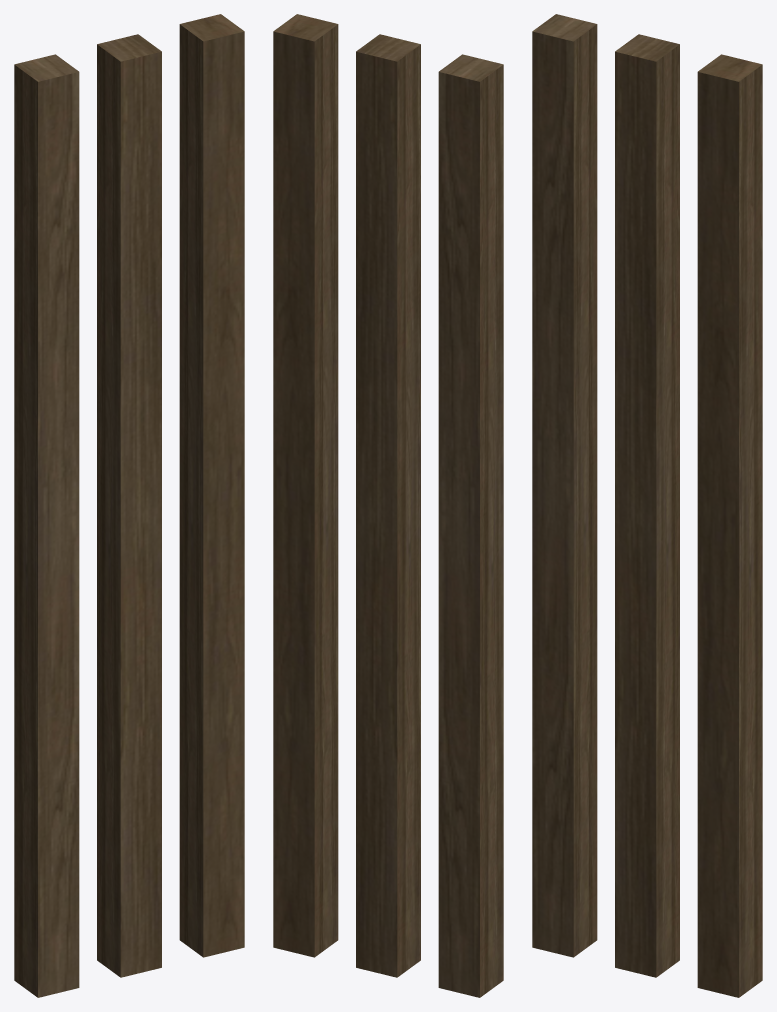
Rendered from eaw-slit-85-3_h1800_brownebony.fbx.
3 renders of one model, left to right at view 1: azimuth 30°, elevation 25°; view 2: azimuth 150°, elevation 25°; view 3: azimuth 330°, elevation 25°, orthographic.
Visible parts, largest first — view 1: eaw-slit-85-3_h1800_brownebony; view 2: eaw-slit-85-3_h1800_brownebony; view 3: eaw-slit-85-3_h1800_brownebony.
Boxes of the visible parts, bbox=[...] form: eaw-slit-85-3_h1800_brownebony: bbox=[14, 14, 244, 997]; eaw-slit-85-3_h1800_brownebony: bbox=[273, 14, 503, 997]; eaw-slit-85-3_h1800_brownebony: bbox=[532, 14, 762, 997].
Size of the model in its own units: 42.5 by 180 by 8.5.
Materials: 1 (1 with a texture image).
